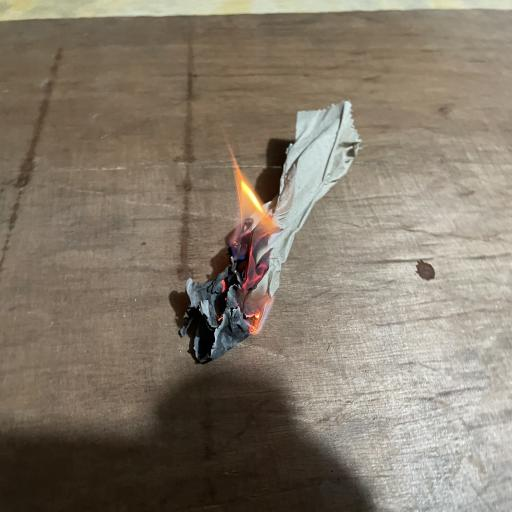fire: (183, 119, 314, 372)
